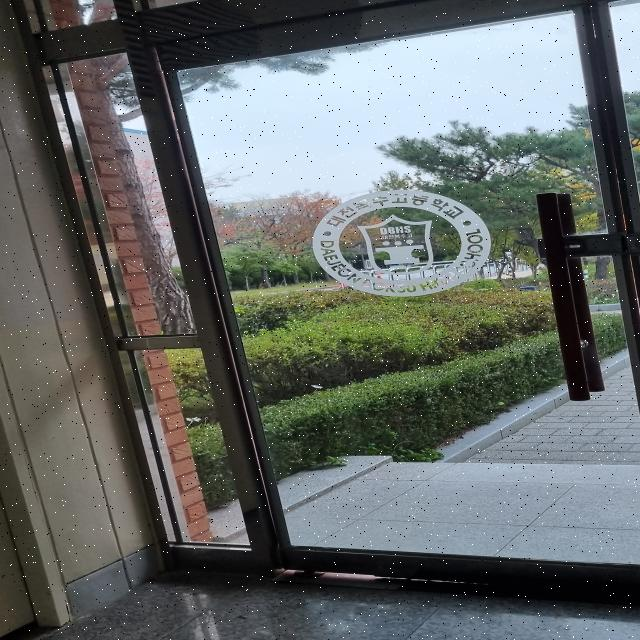logo: (301, 177, 510, 309)
